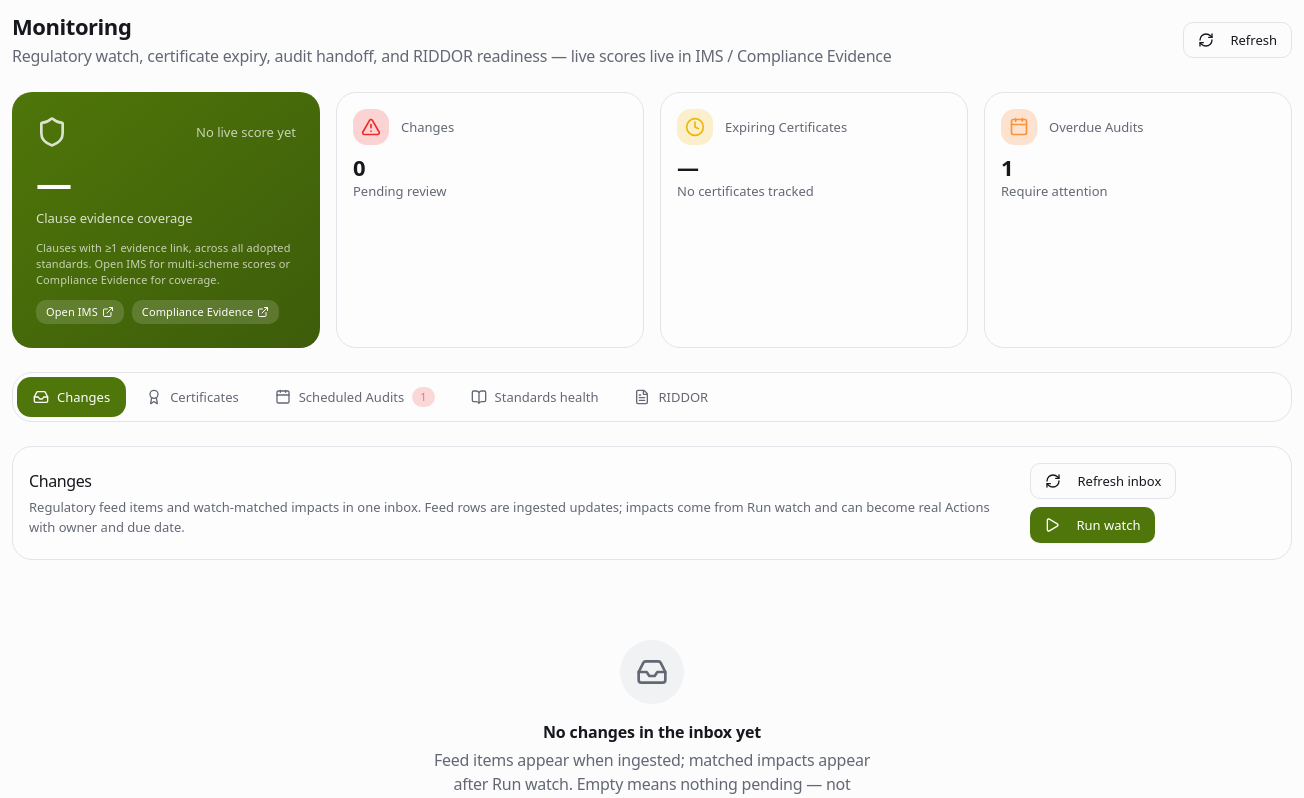
Test case: ComplianceAutomation monitoring honesty › renders authoritative audit runs with deep links to Audits workspace
This screenshot has width=1304, height=798.
Expected: the heading "Monitoring" is shown, [12,11,131,41]
Click the button "Scheduled Audits 1" at (355, 397), box [259,377,451,417]
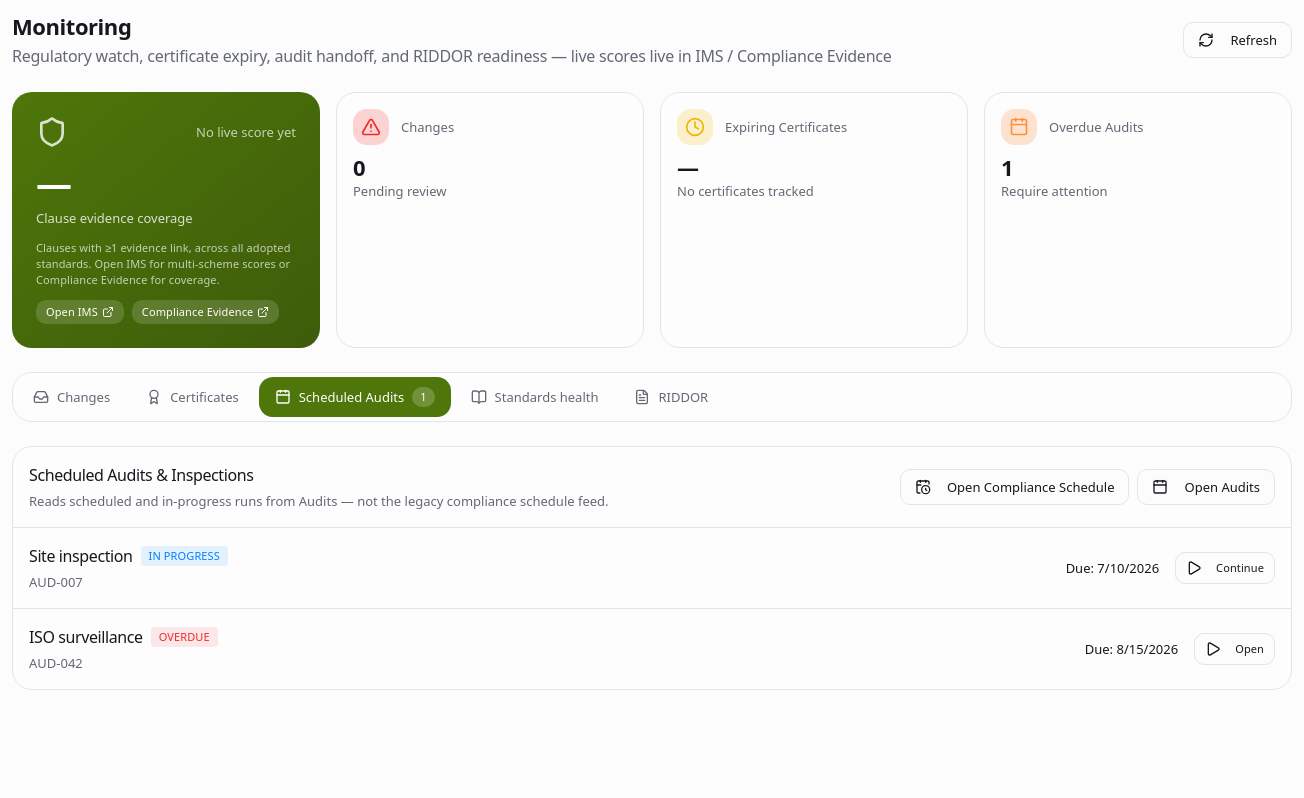
Result: the heading "ISO surveillance" is shown at [29,625,143,649]
Result: the heading "Site inspection" is shown at [29,544,133,568]
